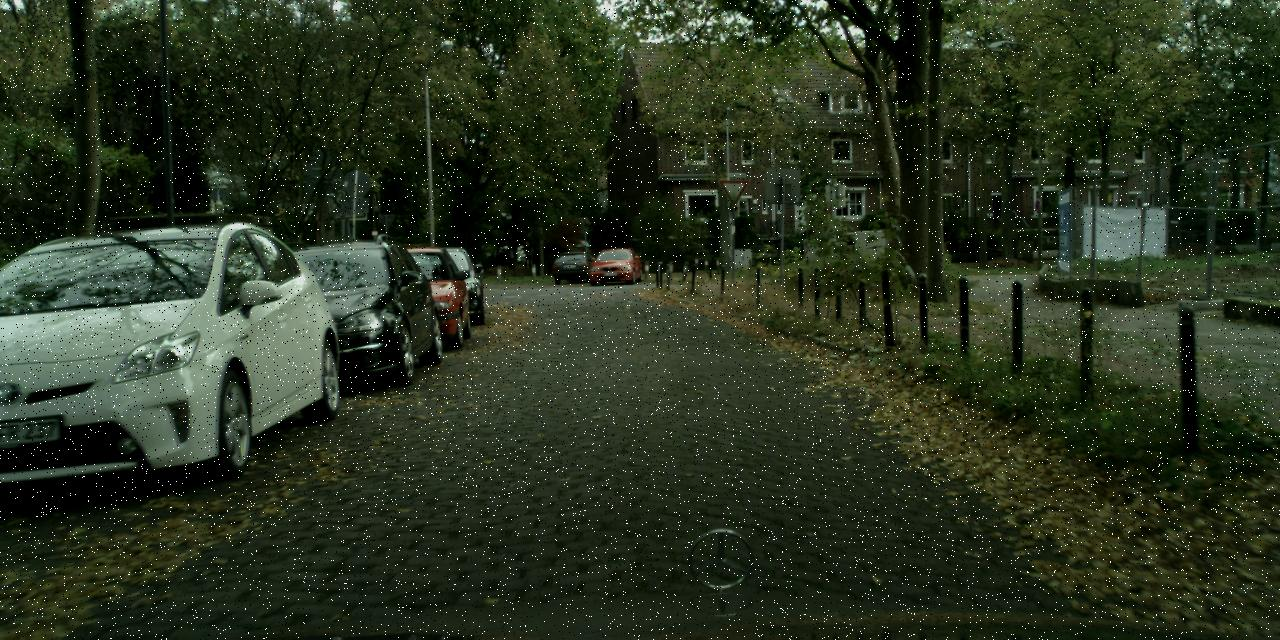ped: (522, 241, 532, 267), (506, 246, 514, 268)
